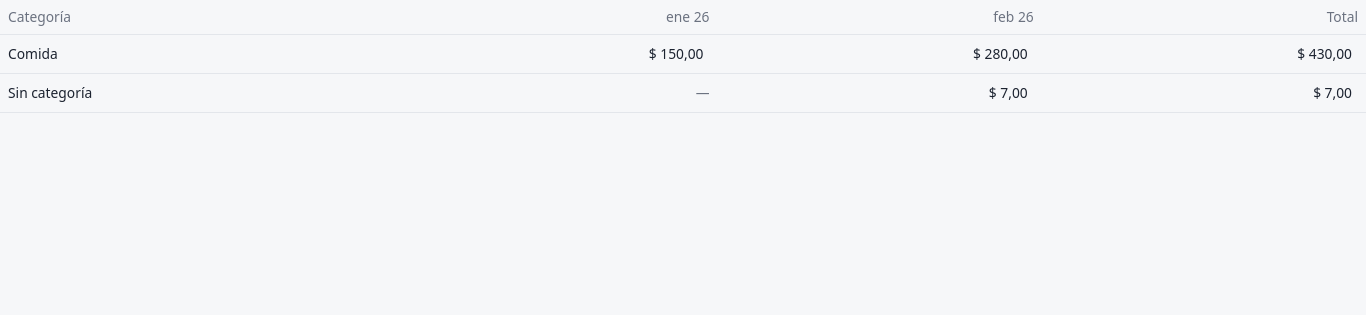
Test: CategoryMonthTable › lists the movements of a cell, asking for exactly that cell
Click the button "$ 280,00".
click(1000, 54)  # box [967,42,1034,66]
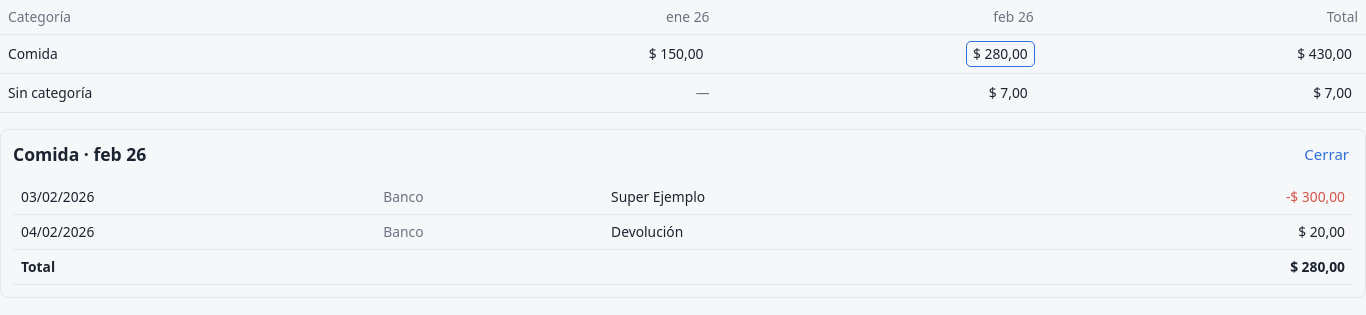
Expected: the text "Super Ejemplo" is shown, [603,180,1049,214]
Expected: the heading "Comida · feb 26" is shown, [13,142,146,168]
Click the button "$ 280,00".
click(1000, 54)  # box [967,42,1034,66]
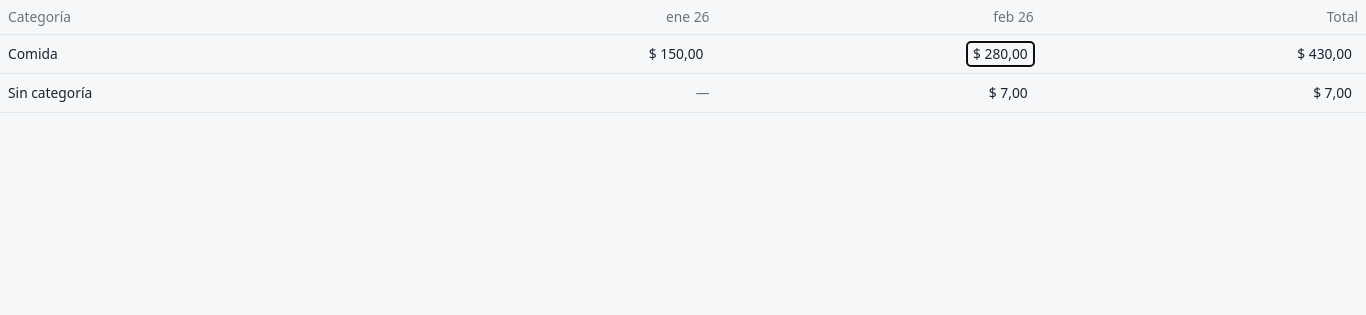
Expected: the text "Super Ejemplo" is gone
